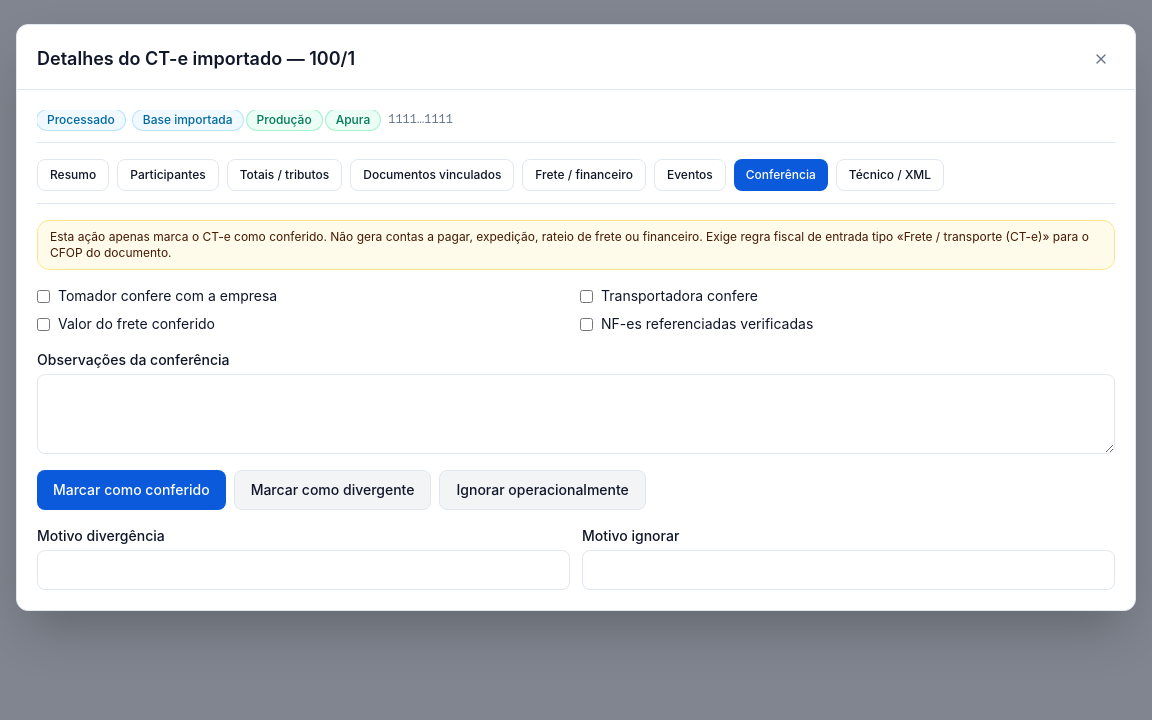
ERP 4.0.10.2.2 CT-e conferência › marcar divergente exige motivo no modal
Click the button "Marcar como divergente" at (333, 490), box [234,470,432,510]
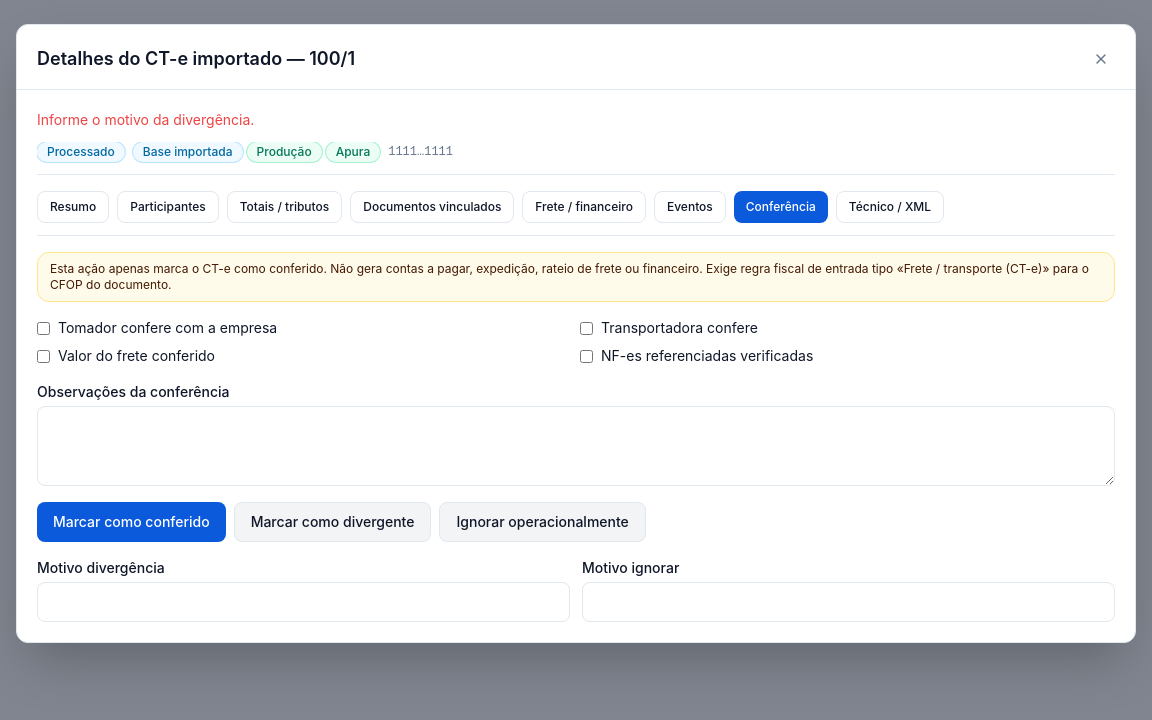
Now the text "Informe o motivo da divergência." is shown, box [37,111,254,128]
